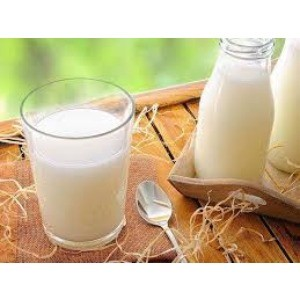milk_brain food: (19, 94, 138, 245), (190, 59, 286, 175)
